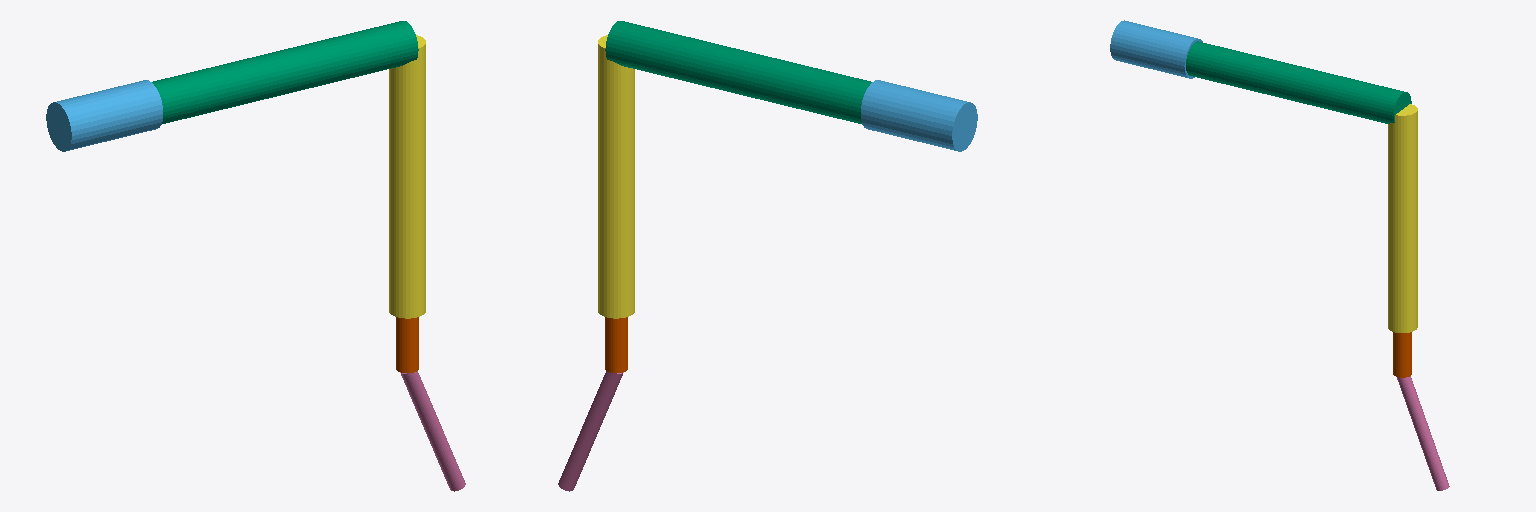
The robot description file, URDF, robot "generic_6_axis_welding_arm":
<?xml version="1.0"?>
<!--
  Generic 6-axis welding arm
  GENERATED by weldforge.kin.urdf from data/robots/. Do not edit by
  hand: regenerate instead, or the URDF and the planner's kinematics
  will drift apart.

  Link inertias are placeholders (uniform boxes). Replace them with
  manufacturer data before using this model for dynamics.
-->
<robot name="generic_6_axis_welding_arm">

  <link name="base_link">
    <inertial>
      <origin xyz="0 0 0" rpy="0 0 0"/>
      <mass value="50.0000"/>
      <inertia ixx="0.750000" ixy="0" ixz="0" iyy="0.750000" iyz="0" izz="0.750000"/>
    </inertial>
  </link>

  <joint name="joint_1" type="revolute">
    <parent link="base_link"/>
    <child link="link_1"/>
    <origin xyz="0.000000000 -0.000000000 0.500000000" rpy="0.000000000 -0.000000000 0.000000000"/>
    <axis xyz="0 0 1"/>
    <limit lower="-3.141592654" upper="3.141592654" effort="1000" velocity="3.141593"/>
    <dynamics damping="0.5" friction="0.1"/>
  </joint>

  <link name="link_1">
    <inertial>
      <origin xyz="0 0 0" rpy="0 0 0"/>
      <mass value="40.0000"/>
      <inertia ixx="0.416667" ixy="0" ixz="0" iyy="0.416667" iyz="0" izz="0.416667"/>
    </inertial>
    <visual>
      <origin xyz="0.125000000 0.000000000 0.000000000" rpy="-0.000000000 1.570796327 0.000000000"/>
      <geometry><cylinder radius="0.0600" length="0.2500"/></geometry>
    </visual>
    <collision>
      <origin xyz="0.125000000 0.000000000 0.000000000" rpy="-0.000000000 1.570796327 0.000000000"/>
      <geometry><cylinder radius="0.0600" length="0.2500"/></geometry>
    </collision>
  </link>

  <joint name="joint_2" type="revolute">
    <parent link="link_1"/>
    <child link="link_2"/>
    <origin xyz="0.250000000 0.000000000 0.000000000" rpy="-1.570796327 0.000000000 0.000000000"/>
    <axis xyz="0 0 1"/>
    <limit lower="-2.094395102" upper="2.094395102" effort="1000" velocity="3.141593"/>
    <dynamics damping="0.5" friction="0.1"/>
  </joint>

  <link name="link_2">
    <inertial>
      <origin xyz="0 0 0" rpy="0 0 0"/>
      <mass value="35.0000"/>
      <inertia ixx="2.858333" ixy="0" ixz="0" iyy="2.858333" iyz="0" izz="2.858333"/>
    </inertial>
    <visual>
      <origin xyz="0.350000000 -0.000000000 0.000000000" rpy="-0.000000000 1.570796327 0.000000000"/>
      <geometry><cylinder radius="0.0520" length="0.7000"/></geometry>
    </visual>
    <collision>
      <origin xyz="0.350000000 -0.000000000 0.000000000" rpy="-0.000000000 1.570796327 0.000000000"/>
      <geometry><cylinder radius="0.0520" length="0.7000"/></geometry>
    </collision>
  </link>

  <joint name="joint_3" type="revolute">
    <parent link="link_2"/>
    <child link="link_3"/>
    <origin xyz="0.700000000 -0.000000000 0.000000000" rpy="0.000000000 -0.000000000 0.000000000"/>
    <axis xyz="0 0 1"/>
    <limit lower="-2.617993878" upper="2.617993878" effort="1000" velocity="3.141593"/>
    <dynamics damping="0.5" friction="0.1"/>
  </joint>

  <link name="link_3">
    <inertial>
      <origin xyz="0 0 0" rpy="0 0 0"/>
      <mass value="30.0000"/>
      <inertia ixx="2.450000" ixy="0" ixz="0" iyy="2.450000" iyz="0" izz="2.450000"/>
    </inertial>
    <visual>
      <origin xyz="0.000000000 0.350000000 0.000000000" rpy="-1.570796327 -0.000000000 0.000000000"/>
      <geometry><cylinder radius="0.0440" length="0.7000"/></geometry>
    </visual>
    <collision>
      <origin xyz="0.000000000 0.350000000 0.000000000" rpy="-1.570796327 -0.000000000 0.000000000"/>
      <geometry><cylinder radius="0.0440" length="0.7000"/></geometry>
    </collision>
  </link>

  <joint name="joint_4" type="revolute">
    <parent link="link_3"/>
    <child link="link_4"/>
    <origin xyz="0.000000000 0.700000000 0.000000000" rpy="-1.570796327 0.000000000 0.000000000"/>
    <axis xyz="0 0 1"/>
    <limit lower="-6.108652382" upper="6.108652382" effort="1000" velocity="6.108652"/>
    <dynamics damping="0.5" friction="0.1"/>
  </joint>

  <link name="link_4">
    <inertial>
      <origin xyz="0 0 0" rpy="0 0 0"/>
      <mass value="25.0000"/>
      <inertia ixx="0.010417" ixy="0" ixz="0" iyy="0.010417" iyz="0" izz="0.010417"/>
    </inertial>
  </link>

  <joint name="joint_5" type="revolute">
    <parent link="link_4"/>
    <child link="link_5"/>
    <origin xyz="0.000000000 -0.000000000 0.000000000" rpy="1.570796327 -0.000000000 0.000000000"/>
    <axis xyz="0 0 1"/>
    <limit lower="-2.181661565" upper="2.181661565" effort="1000" velocity="6.108652"/>
    <dynamics damping="0.5" friction="0.1"/>
  </joint>

  <link name="link_5">
    <inertial>
      <origin xyz="0 0 0" rpy="0 0 0"/>
      <mass value="20.0000"/>
      <inertia ixx="0.075000" ixy="0" ixz="0" iyy="0.075000" iyz="0" izz="0.075000"/>
    </inertial>
    <visual>
      <origin xyz="0.000000000 0.075000000 0.000000000" rpy="-1.570796327 -0.000000000 0.000000000"/>
      <geometry><cylinder radius="0.0280" length="0.1500"/></geometry>
    </visual>
    <collision>
      <origin xyz="0.000000000 0.075000000 0.000000000" rpy="-1.570796327 -0.000000000 0.000000000"/>
      <geometry><cylinder radius="0.0280" length="0.1500"/></geometry>
    </collision>
  </link>

  <joint name="joint_6" type="revolute">
    <parent link="link_5"/>
    <child link="link_6"/>
    <origin xyz="0.000000000 0.150000000 0.000000000" rpy="-1.570796327 0.000000000 0.000000000"/>
    <axis xyz="0 0 1"/>
    <limit lower="-6.108652382" upper="6.108652382" effort="1000" velocity="10.471976"/>
    <dynamics damping="0.5" friction="0.1"/>
  </joint>

  <link name="link_6">
    <inertial>
      <origin xyz="0 0 0" rpy="0 0 0"/>
      <mass value="15.0000"/>
      <inertia ixx="0.333062" ixy="0" ixz="0" iyy="0.333062" iyz="0" izz="0.333062"/>
    </inertial>
    <visual>
      <origin xyz="0.068365703 0.000000000 0.169211053" rpy="0.000000000 0.383972435 0.000000000"/>
      <geometry><cylinder radius="0.0200" length="0.3650"/></geometry>
    </visual>
    <collision>
      <origin xyz="0.068365703 0.000000000 0.169211053" rpy="0.000000000 0.383972435 0.000000000"/>
      <geometry><cylinder radius="0.0200" length="0.3650"/></geometry>
    </collision>
  </link>

  <joint name="joint_tool" type="fixed">
    <parent link="link_6"/>
    <child link="torch_tip"/>
    <origin xyz="0.136731407 0.000000000 0.338422107" rpy="0.000000000 0.383972435 0.000000000"/>
  </joint>

  <link name="torch_tip">
    <inertial>
      <origin xyz="0 0 0" rpy="0 0 0"/>
      <mass value="2.0000"/>
      <inertia ixx="0.000833" ixy="0" ixz="0" iyy="0.000833" iyz="0" izz="0.000833"/>
    </inertial>
  </link>

</robot>

--- Render facts (derived) ---
3 views of the same robot in one strip: view 1: azimuth 30°, elevation 25°; view 2: azimuth 150°, elevation 25°; view 3: azimuth 330°, elevation 25° (orthographic).
Robot: generic_6_axis_welding_arm — 8 links, 7 joints (6 revolute, 1 fixed); root link base_link; default pose: every joint at zero.
Visible links, largest first — view 1: link_2, link_3, link_1, link_6, link_5; view 2: link_2, link_3, link_1, link_6, link_5; view 3: link_2, link_3, link_1, link_6, link_5.
Link boxes in pixels (x1,y1,x2,y2): link_2: [152, 21, 418, 123]; link_3: [389, 35, 425, 318]; link_1: [46, 80, 162, 151]; link_6: [400, 371, 465, 491]; link_5: [396, 317, 418, 372]; link_2: [605, 21, 871, 123]; link_3: [598, 35, 634, 318]; link_1: [861, 80, 977, 151]; link_6: [558, 371, 623, 491]; link_5: [605, 317, 627, 372]; link_2: [1186, 41, 1411, 123]; link_3: [1388, 104, 1417, 332]; link_1: [1110, 20, 1202, 78]; link_6: [1397, 376, 1449, 490]; link_5: [1393, 332, 1411, 377].
Bounding box of the posed robot: 1.11 × 0.12 × 1.26 m (x, y, z).
Geometry: primitives only (box / cylinder / sphere), no mesh files.
